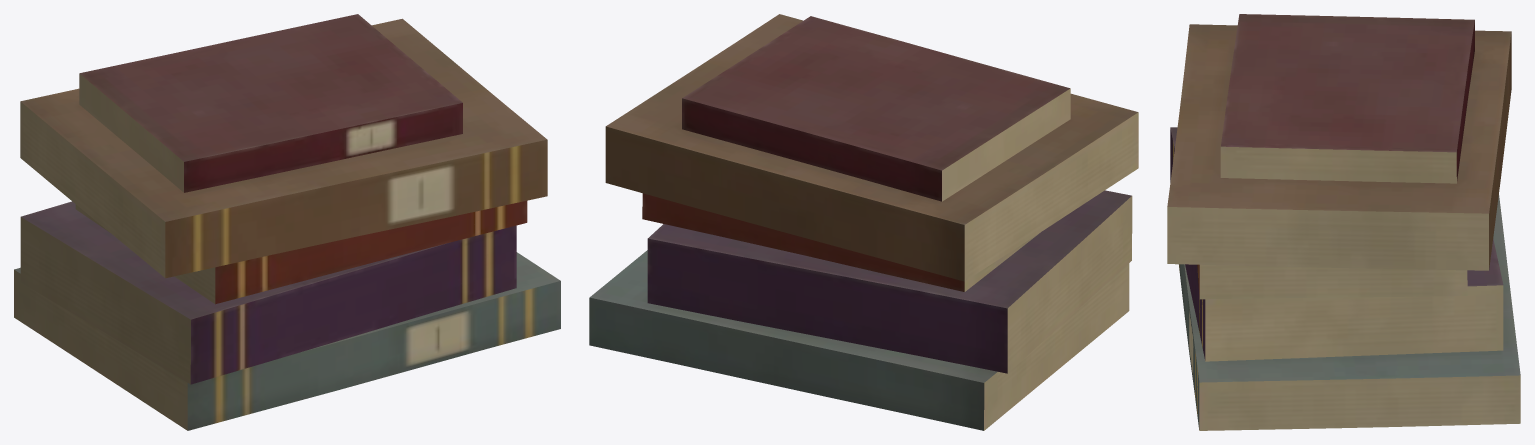
File: book-stack.glb
3 renders of one model, left to right at view 1: azimuth 30°, elevation 25°; view 2: azimuth 150°, elevation 25°; view 3: azimuth 270°, elevation 25°, orthographic.
Parts seen in each view (by area): view 1: stack; view 2: stack; view 3: stack.
Part boxes in pixels (x1,y1,x2,y2): stack: (14,14,560,430); stack: (589,14,1138,430); stack: (1167,14,1520,430).
Bounding box in the file's own units: 0.3013 × 0.1698 × 0.2248.
1 material, 1 textured.
